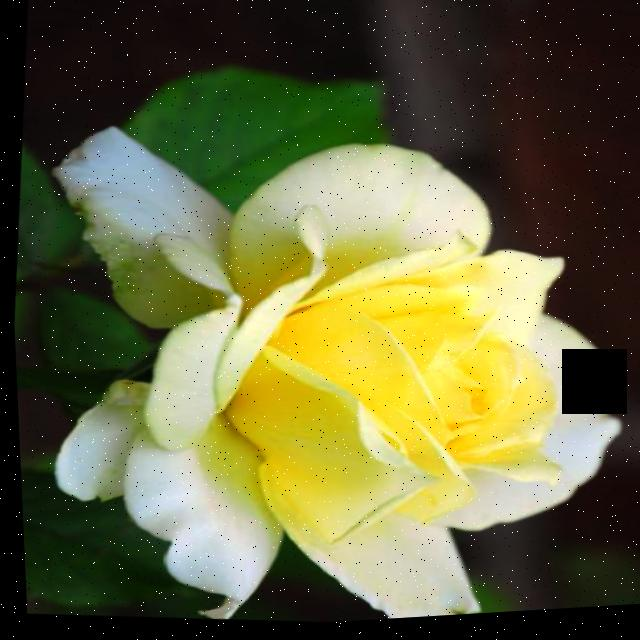rose: (11, 83, 640, 640)
